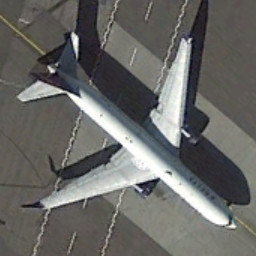Airplane: (13, 18, 247, 250)
